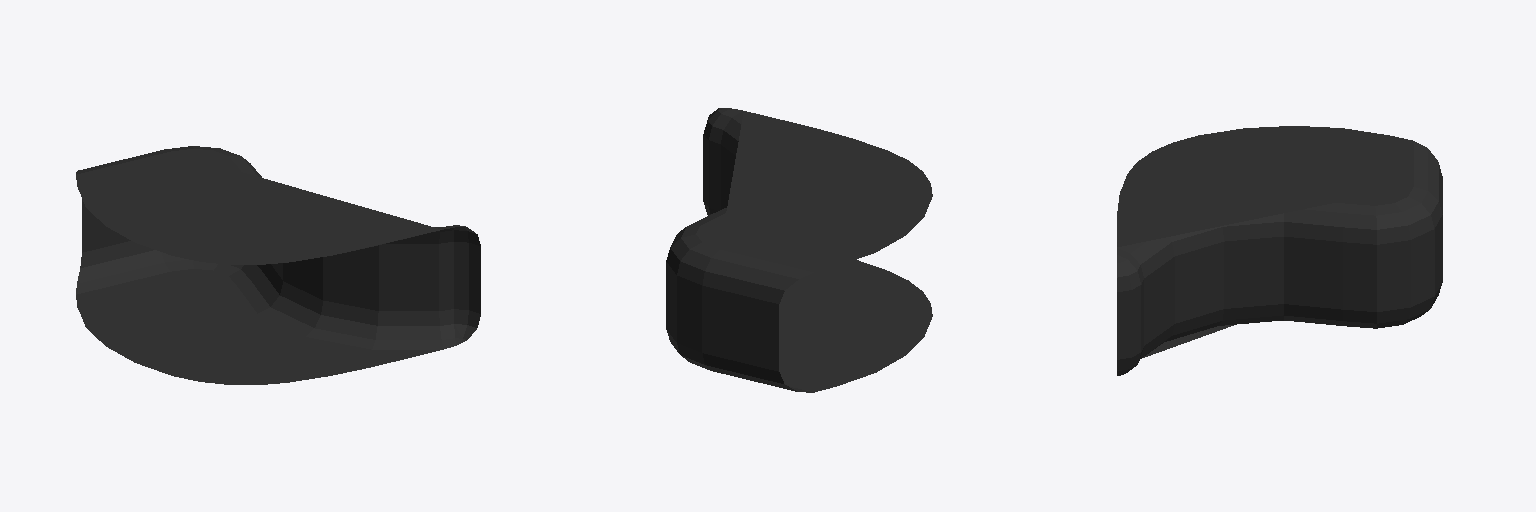
File: trigger.obj
3 views of the same model, side by side, from view 1: azimuth 30°, elevation 25°; view 2: azimuth 150°, elevation 25°; view 3: azimuth 270°, elevation 25° (orthographic).
Parts seen in each view (by area): view 1: Trigger_Mesh2_Group1_Model.003; view 2: Trigger_Mesh2_Group1_Model.003; view 3: Trigger_Mesh2_Group1_Model.003.
Boxes of the visible parts, box(x1,y1,x2,y2) form: Trigger_Mesh2_Group1_Model.003: box(76, 146, 480, 384); Trigger_Mesh2_Group1_Model.003: box(666, 108, 932, 392); Trigger_Mesh2_Group1_Model.003: box(1117, 126, 1442, 375).
Size of the model in its own units: 0.022 by 0.0088 by 0.0215.